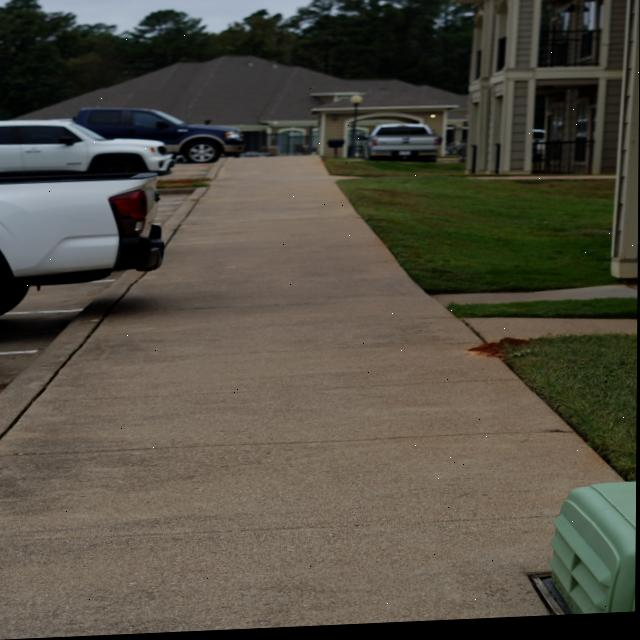Automobile: (0, 109, 246, 316), (364, 127, 441, 165)
Obstacle: (551, 488, 637, 620)
Road: (0, 274, 117, 393)
Sidewalk: (0, 159, 623, 640)
